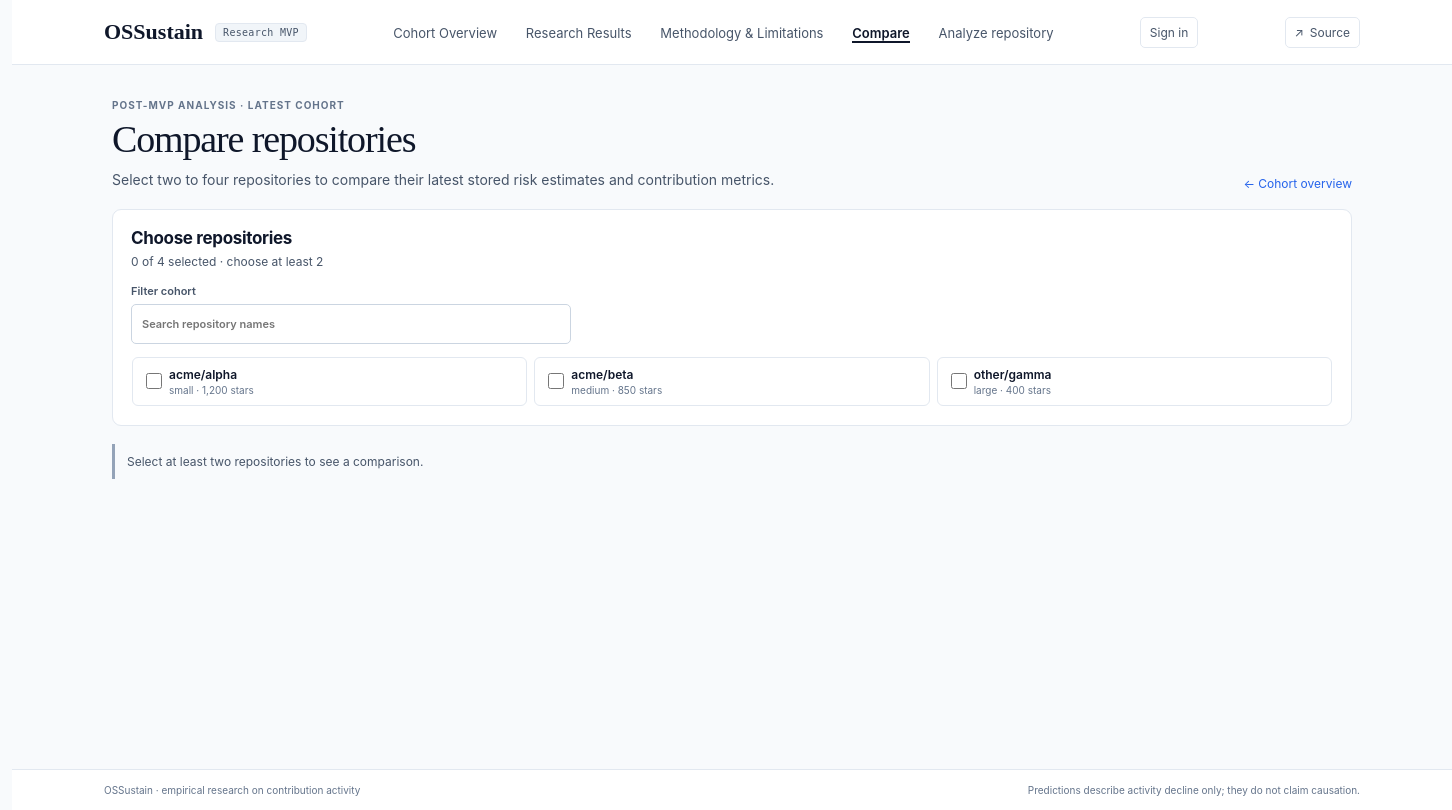
Dashboard screens › compares two selected repositories using stored metrics
Expected: the text "Loading the current cohort…" is shown, 112,444 -> 1352,479
Expected: the heading "Compare repositories" is shown, 112,118 -> 415,160
Click the checkbox labelled "acme/alpha small · 1,200 stars" at (154, 382), box 146,374 -> 162,390
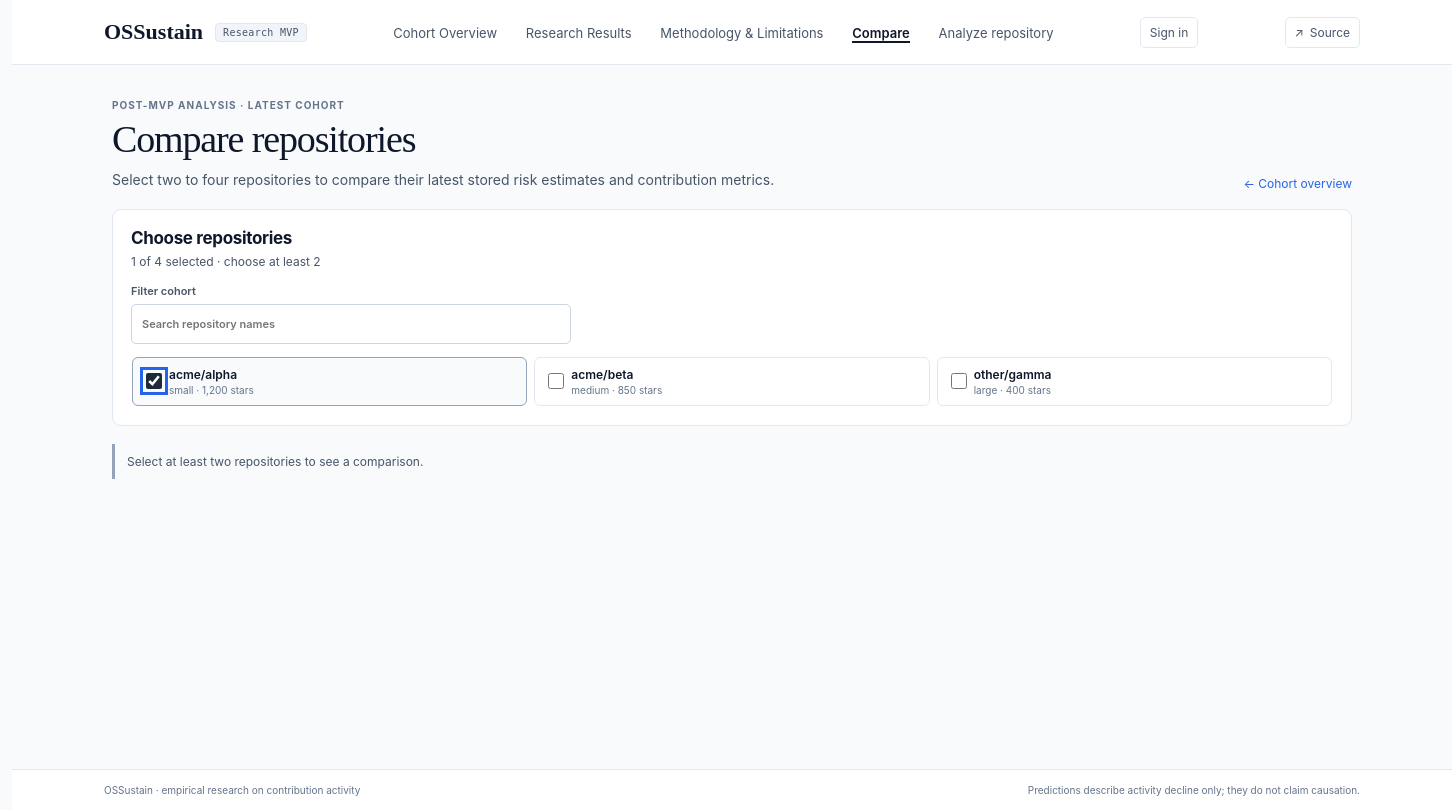
Expected: the text "1 of 4 selected · choose at least 2" is shown, 131,253 -> 321,272
Click the checkbox labelled "acme/beta medium · 850 stars" at (556, 382), box 548,374 -> 564,390
(page scrolled)
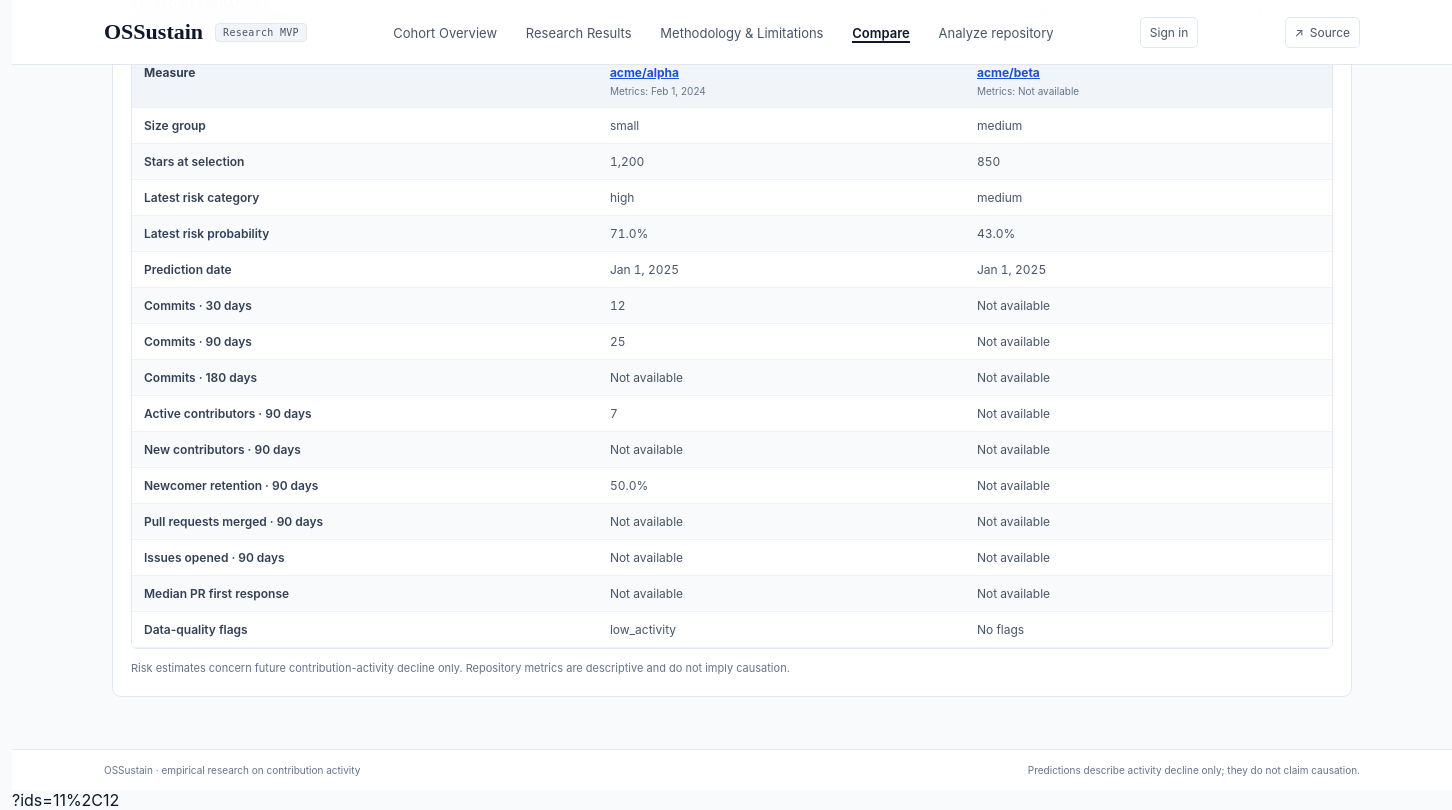
Expected: the column heading "Commits · 30 days" is shown, 132,288 -> 598,324
Expected: the text "12" is shown, 598,288 -> 965,324
Expected: the text "Not available" in the row of "Commits · 30 days" is shown, 977,298 -> 1050,313
